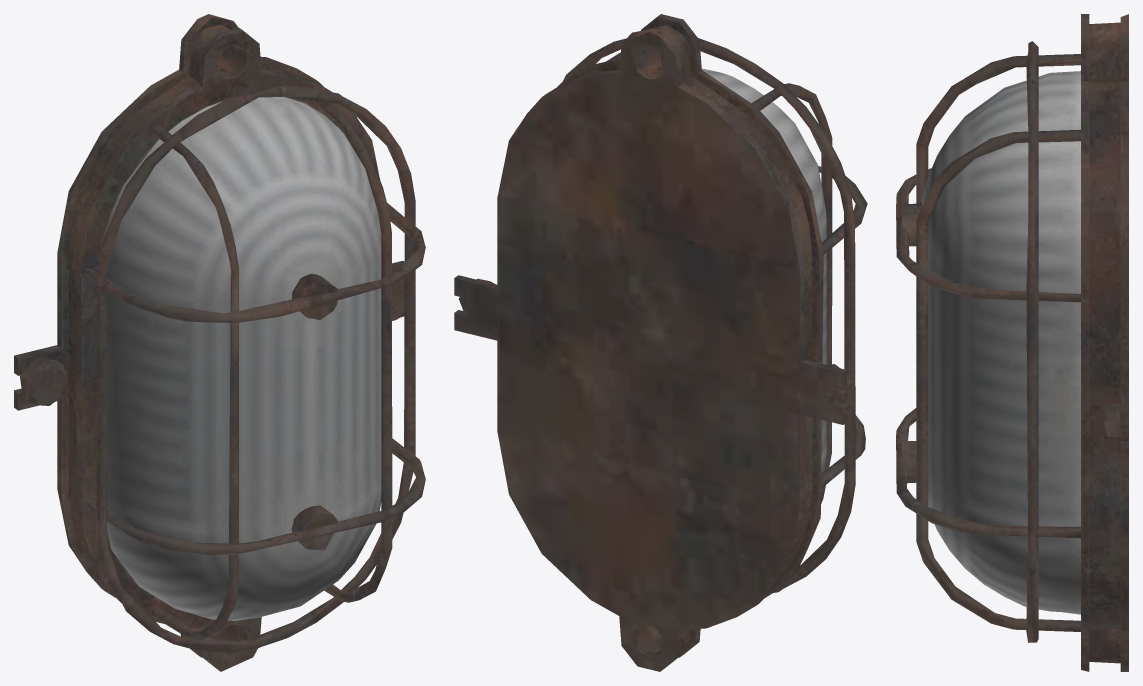
File: industrial_wall_lamp.glb
3 renders of one model, left to right at view 1: azimuth 30°, elevation 25°; view 2: azimuth 150°, elevation 25°; view 3: azimuth 270°, elevation 25°, orthographic.
Parts seen in each view (by area): view 1: industrial_wall_lamp; view 2: industrial_wall_lamp; view 3: industrial_wall_lamp.
Part boxes in pixels (x1,y1,x2,y2): industrial_wall_lamp: (14,14,425,671); industrial_wall_lamp: (454,14,867,671); industrial_wall_lamp: (896,14,1128,671).
Size of the model in its own units: 0.2734 by 0.4283 by 0.1393.
Materials: 2 (2 with a texture image).
